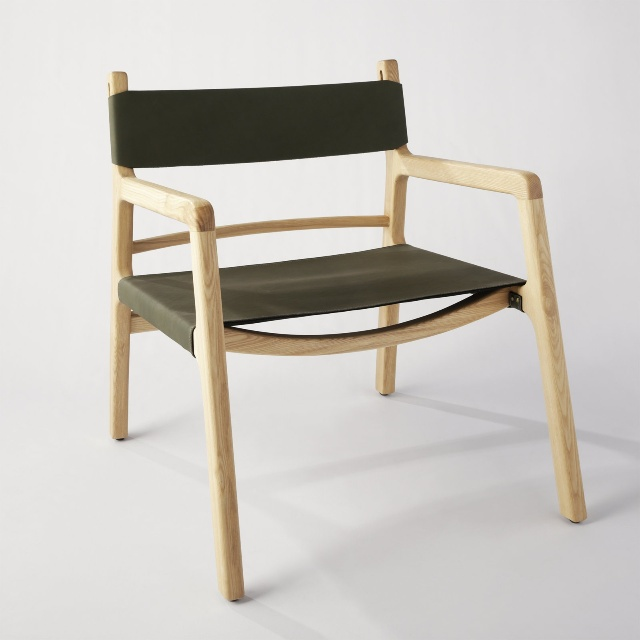obstacle: (108, 60, 586, 600)
